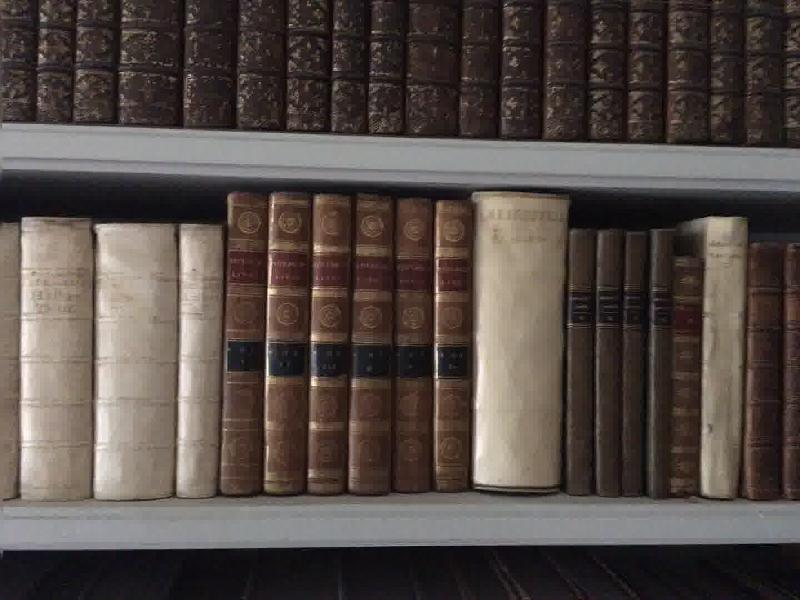Kk4-14: (478, 183, 569, 496)
Kk4-15_16: (566, 224, 624, 503)
Kk4-17_18: (626, 224, 677, 499)
Kk4-19: (674, 257, 710, 500)
Kk4-20: (705, 215, 743, 503)
Kk4-21_22: (745, 236, 800, 506)
Kk4-3_7: (3, 210, 219, 505)
Kk4-8_13: (221, 190, 478, 500)
